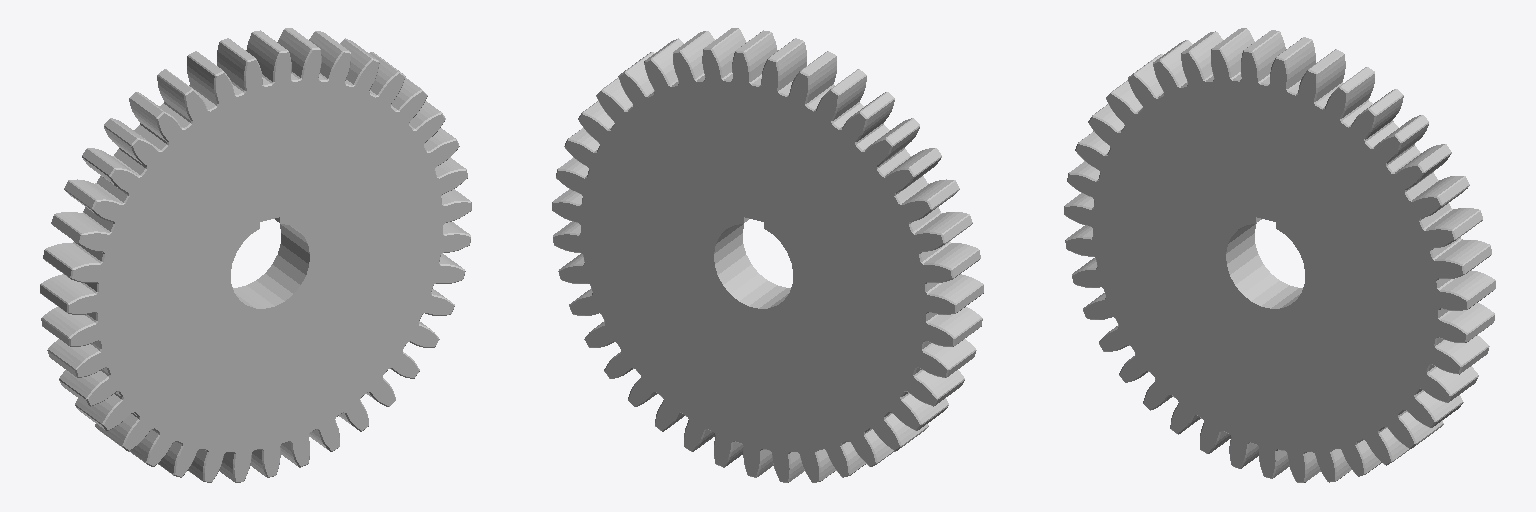
Rendered from gear0.obj.
The picture shows the model from 3 angles: view 1: azimuth 30°, elevation 25°; view 2: azimuth 150°, elevation 25°; view 3: azimuth 330°, elevation 25°; orthographic projection.
Visible parts, largest first — view 1: mesh 1 InvoluteGearEquationA; view 2: mesh 1 InvoluteGearEquationA; view 3: mesh 1 InvoluteGearEquationA.
Boxes of the visible parts, box(x1,y1,x2,y2) form: mesh 1 InvoluteGearEquationA: box(40, 28, 471, 482); mesh 1 InvoluteGearEquationA: box(552, 28, 983, 482); mesh 1 InvoluteGearEquationA: box(1064, 28, 1495, 482).
Size of the model in its own units: 0.0816 by 0.0815 by 0.01.